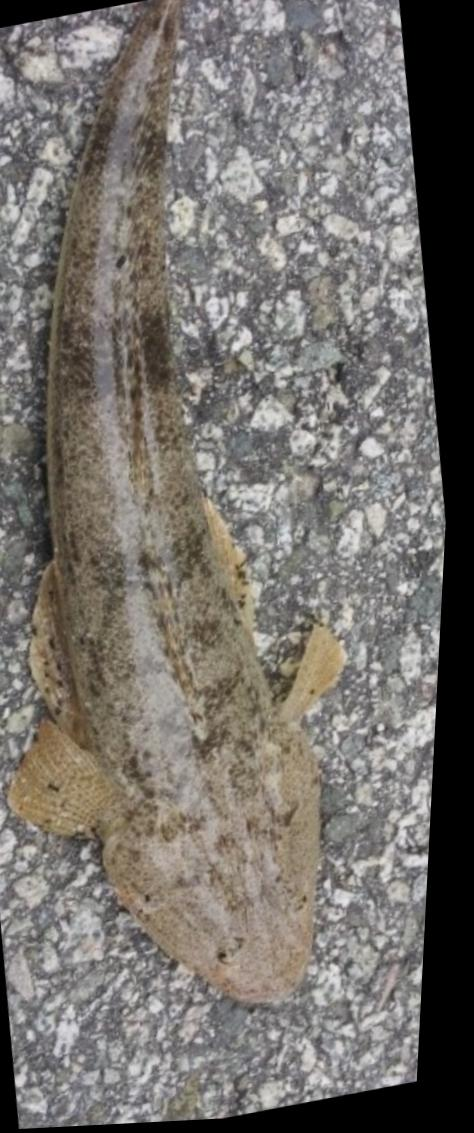fish: (16, 0, 355, 1016)
